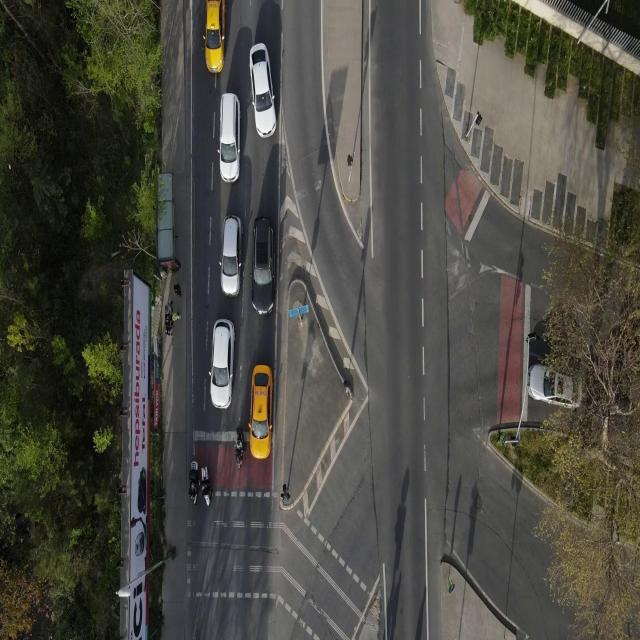p3rson: (169, 312, 181, 323), (165, 299, 173, 314), (173, 284, 181, 297)
